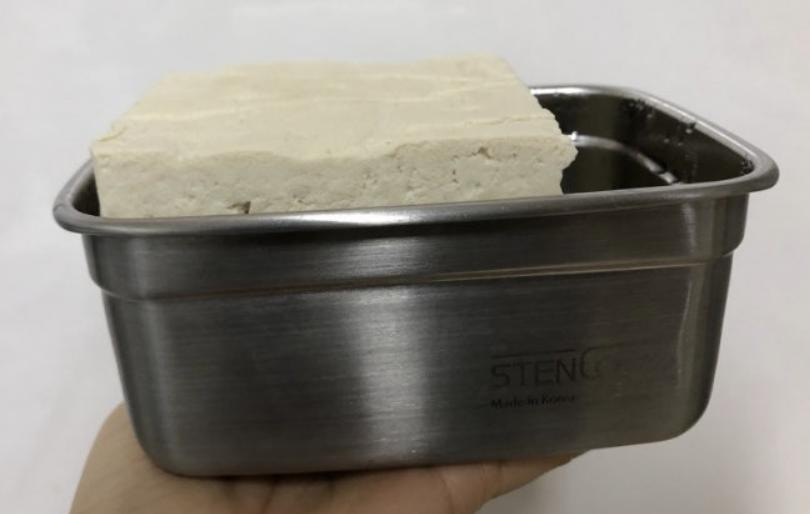Lunch Box: (53, 55, 777, 475)
